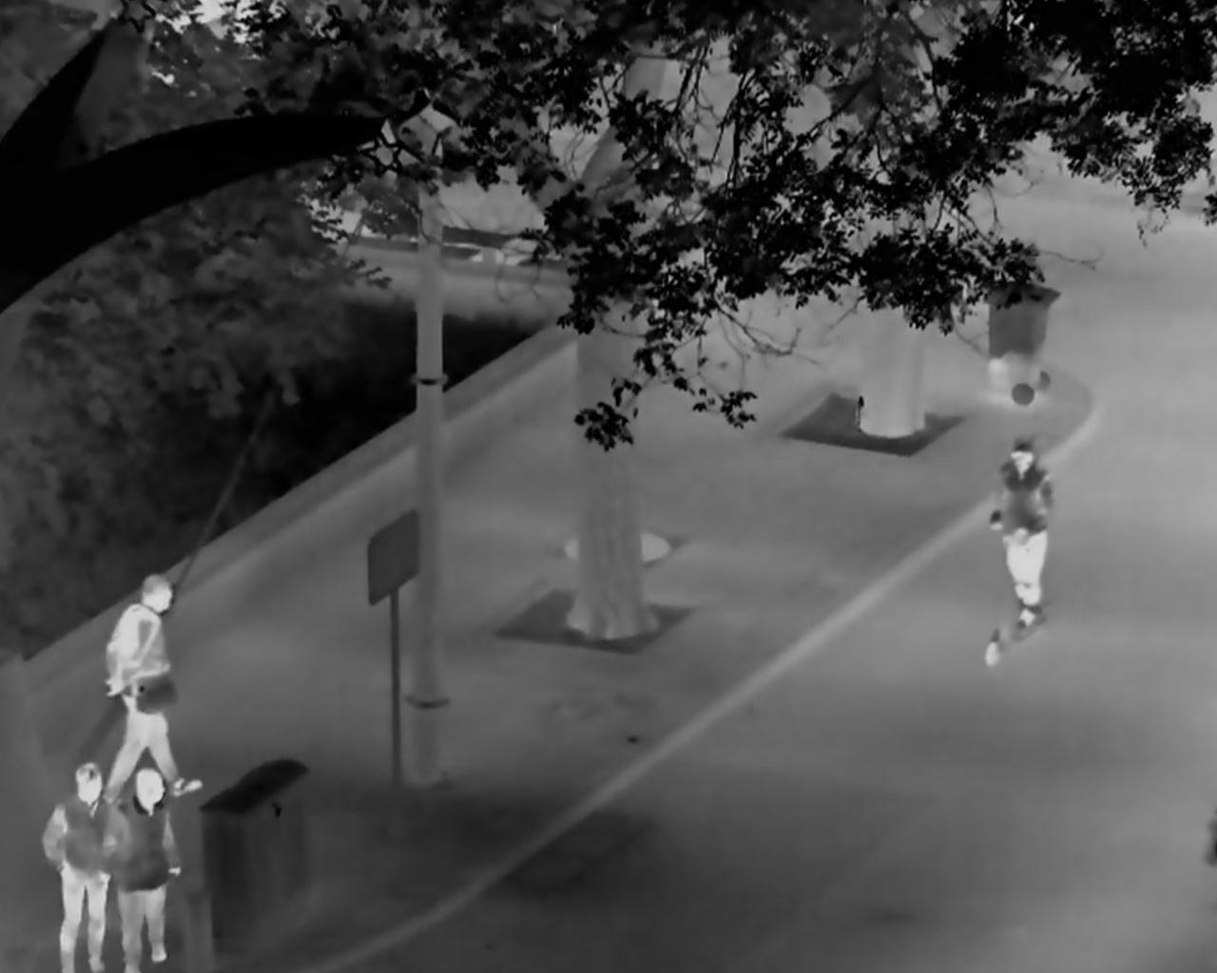person: (103, 573, 205, 806), (110, 769, 184, 973), (40, 762, 110, 973), (989, 435, 1053, 629)
